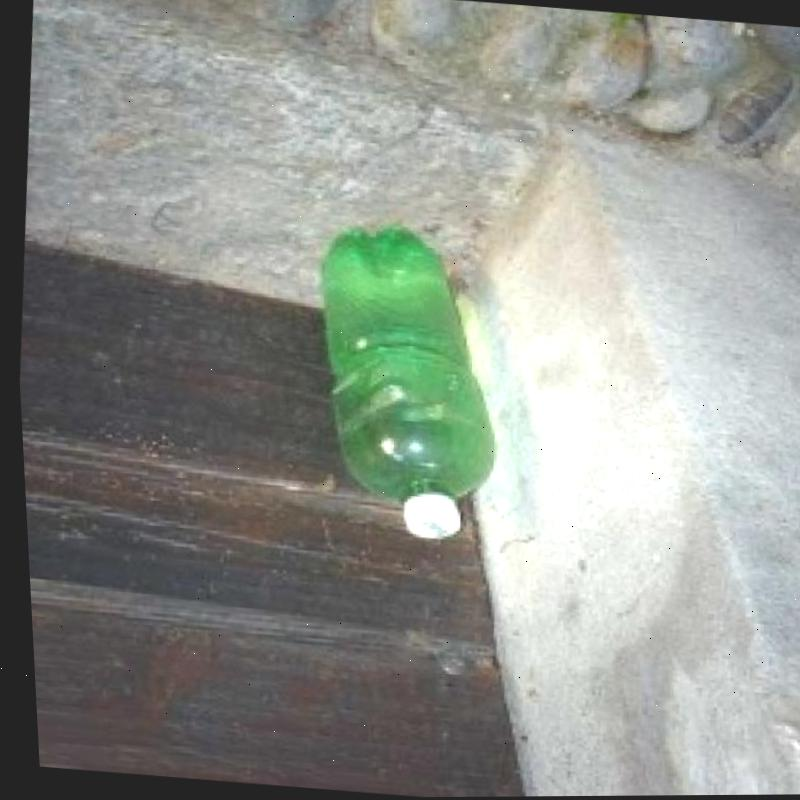botella: (294, 220, 515, 548)
